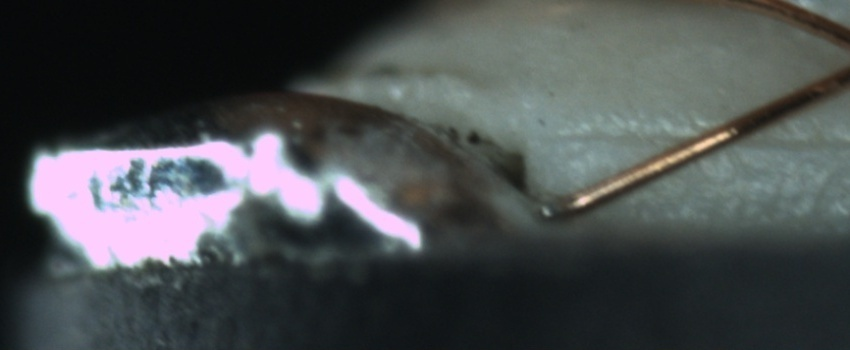DL: (549, 107, 849, 169)
